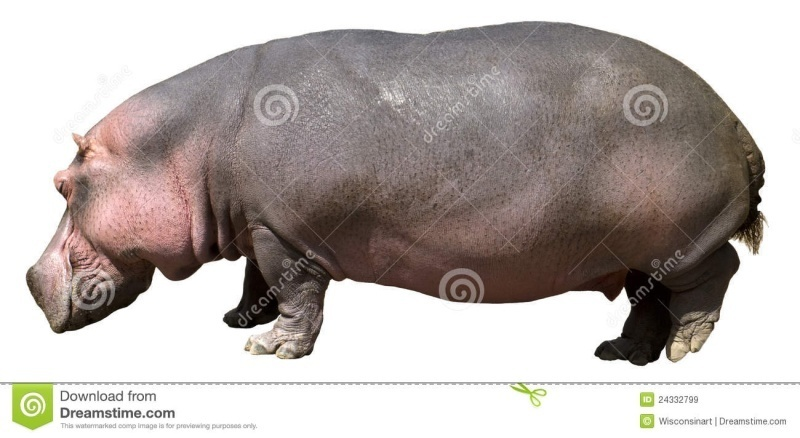hipopotamo: (24, 19, 762, 363)
